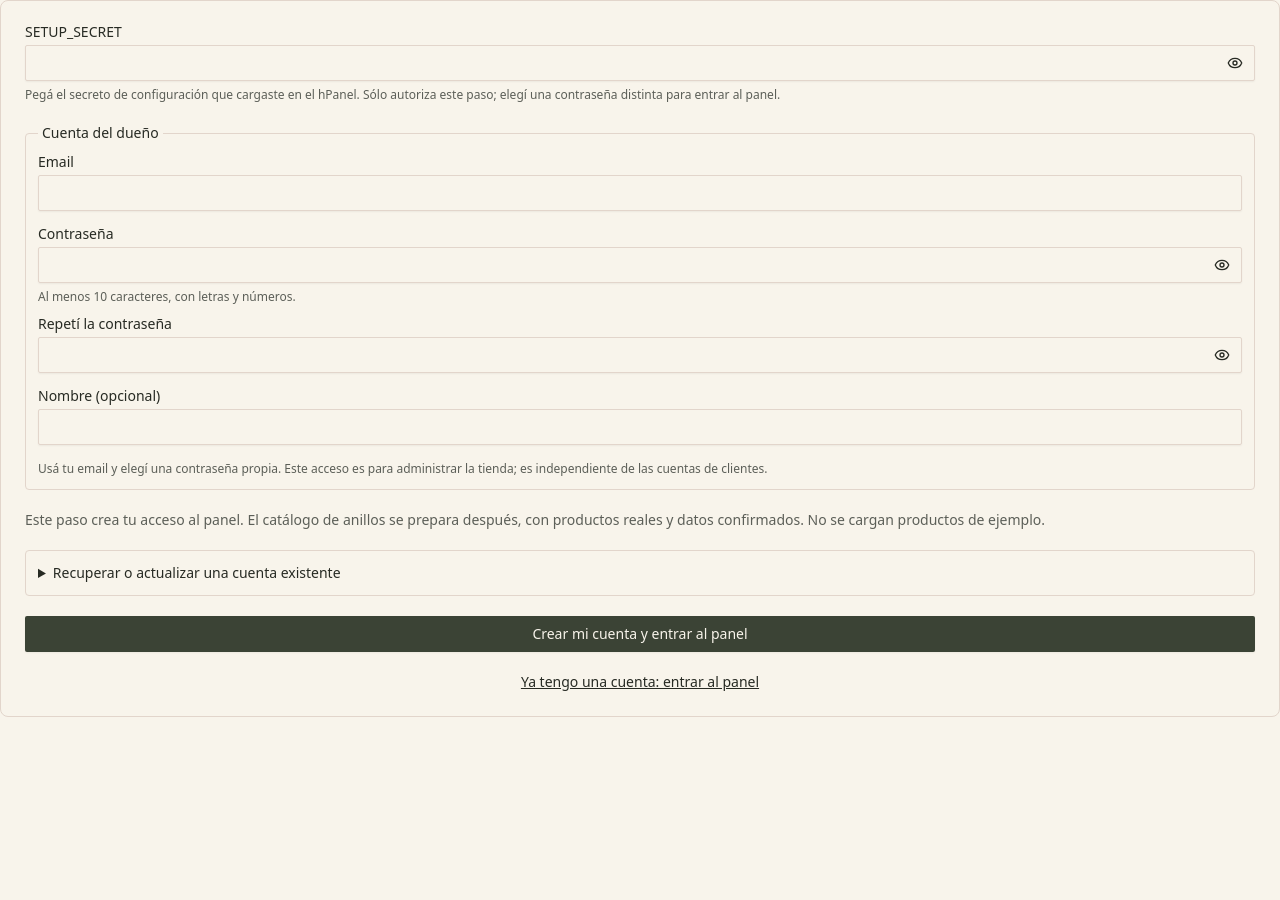
Test case: setup › never signs in after a rejected or unconfirmed setup ({"ok":true,"pasos":{"duenio":"creado"}})
Type "setup-secret-for-ui-test" into the password field labelled "SETUP_SECRET" at (640, 63), box [25,45,1255,81]
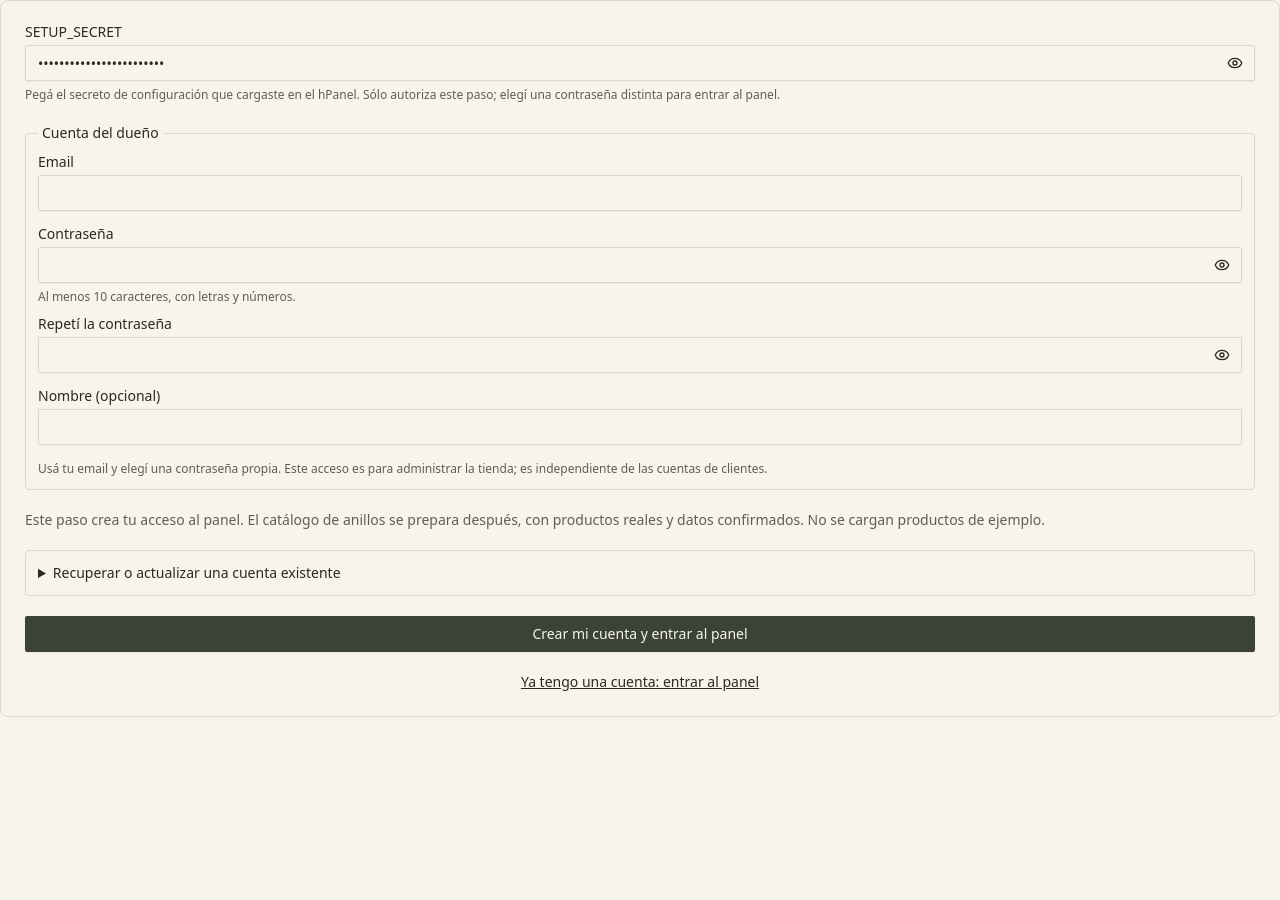
Type "owner@example.test" into the field labelled "Email" at (640, 193), box [38,175,1242,211]
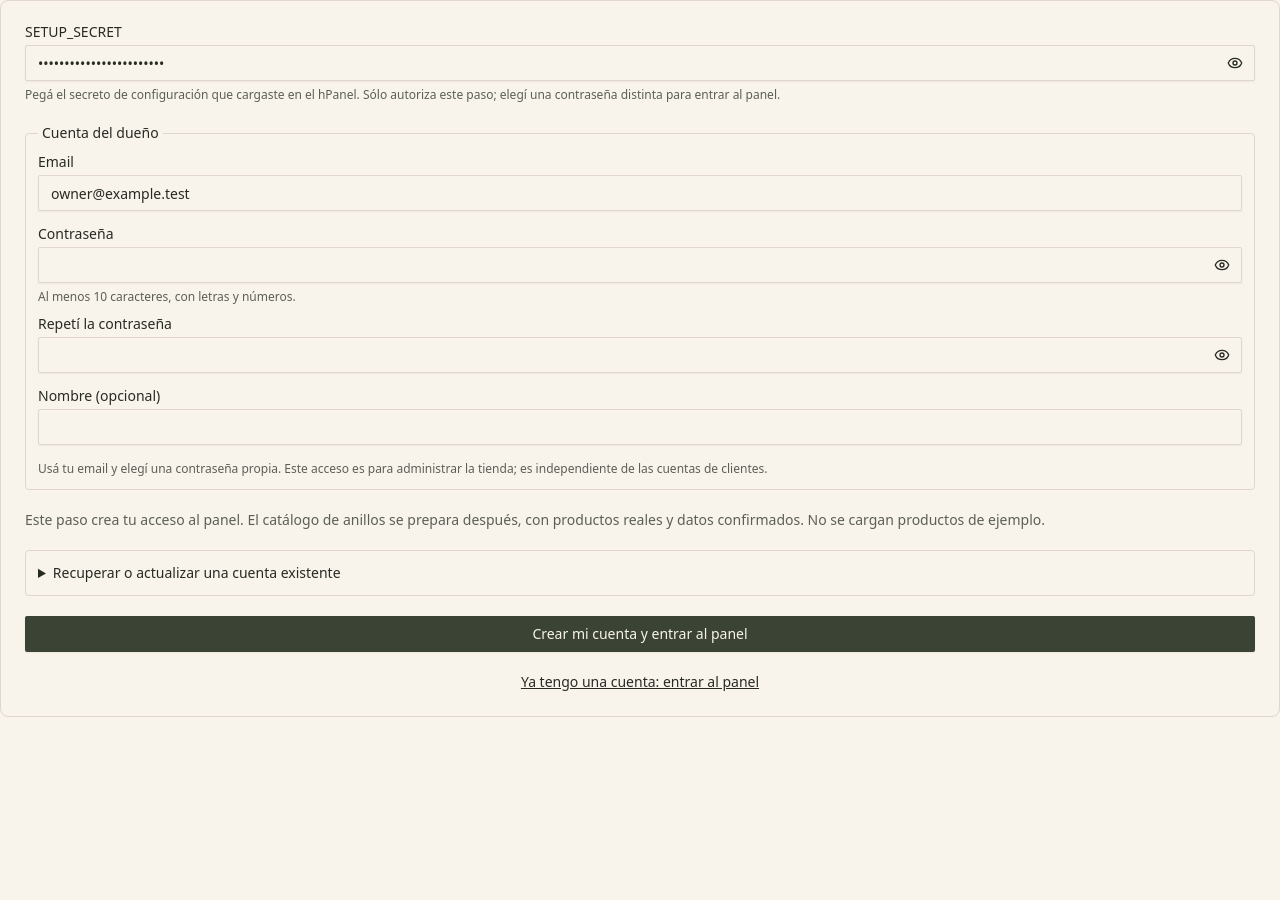
Type "Prueba-segura-2026" into the password field labelled "Contraseña" at (640, 265), box [38,247,1242,283]
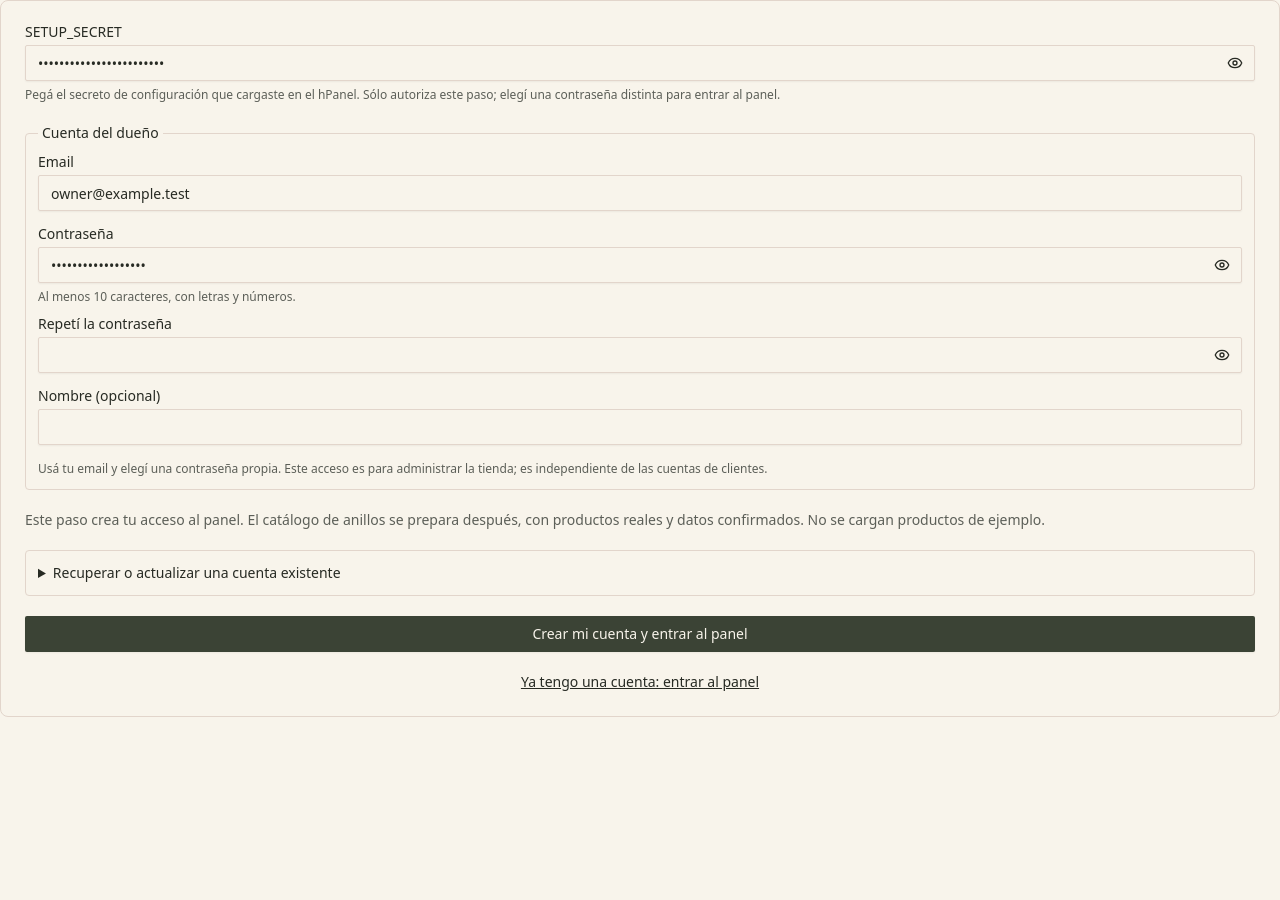
Type "Prueba-segura-2026" into the password field labelled "Repetí la contraseña" at (640, 355), box [38,337,1242,373]
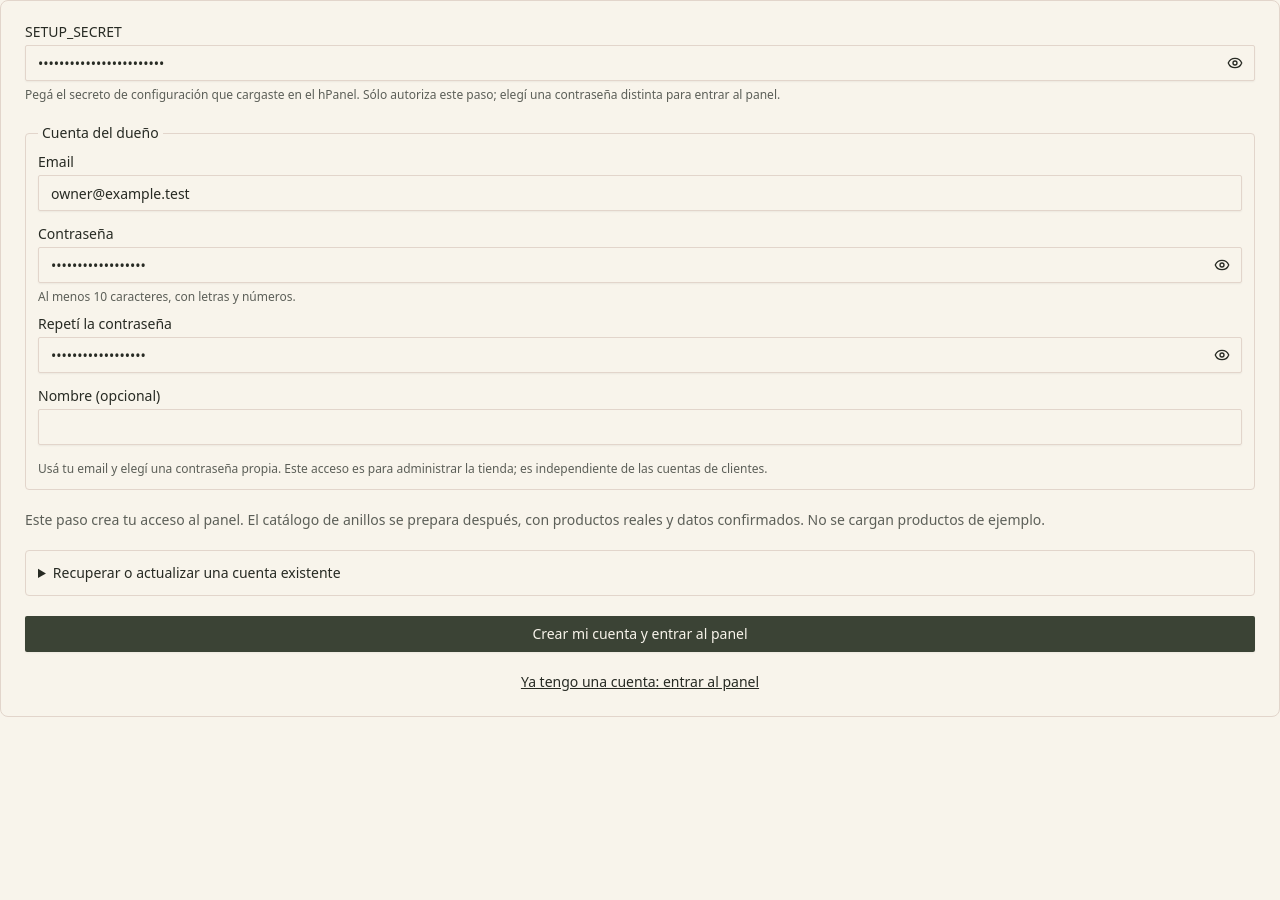
Submit the form
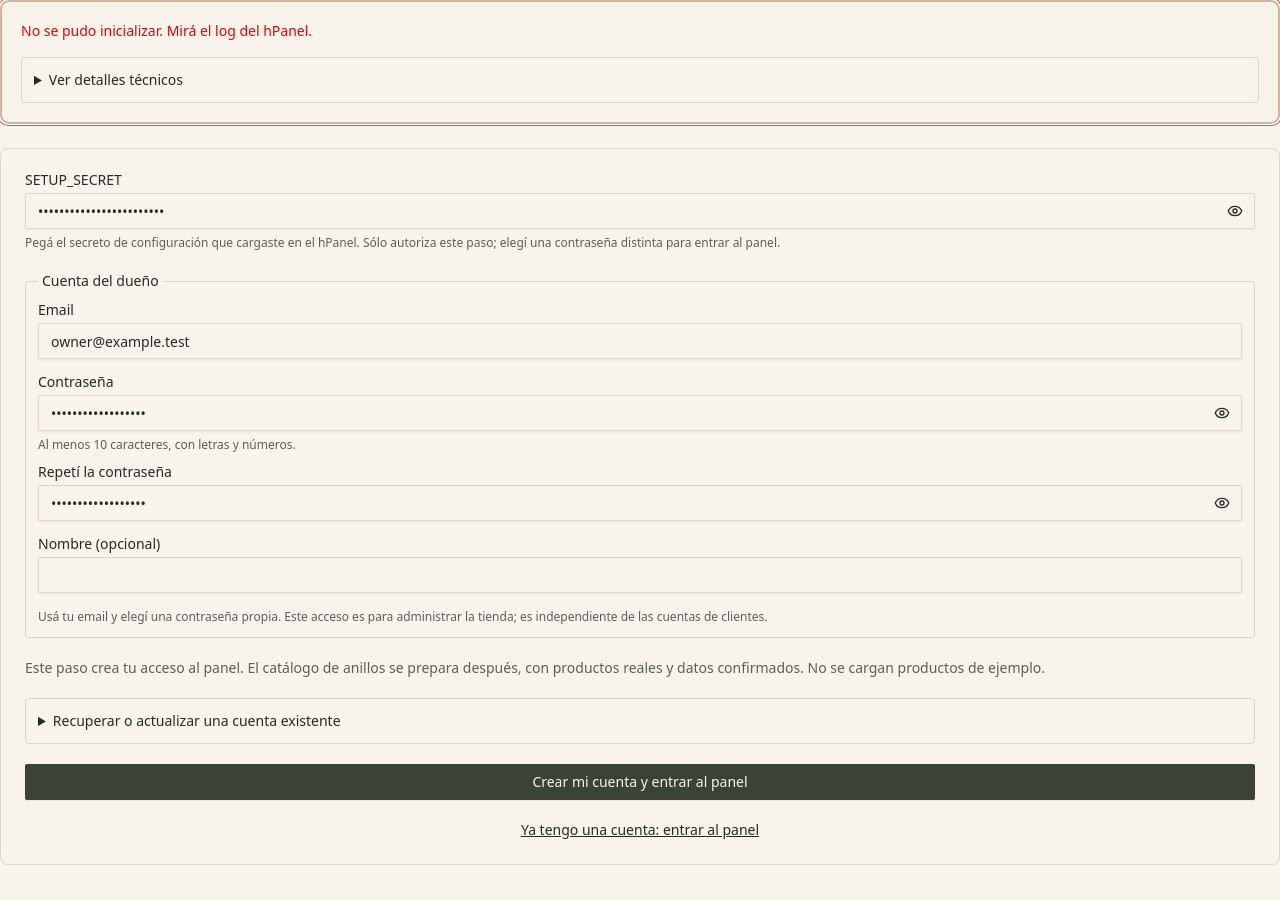
Now the message "No se pudo inicializar. Mirá el log del hPanel. Ver detalles técnicos" is shown, box [0,0,1279,124]
